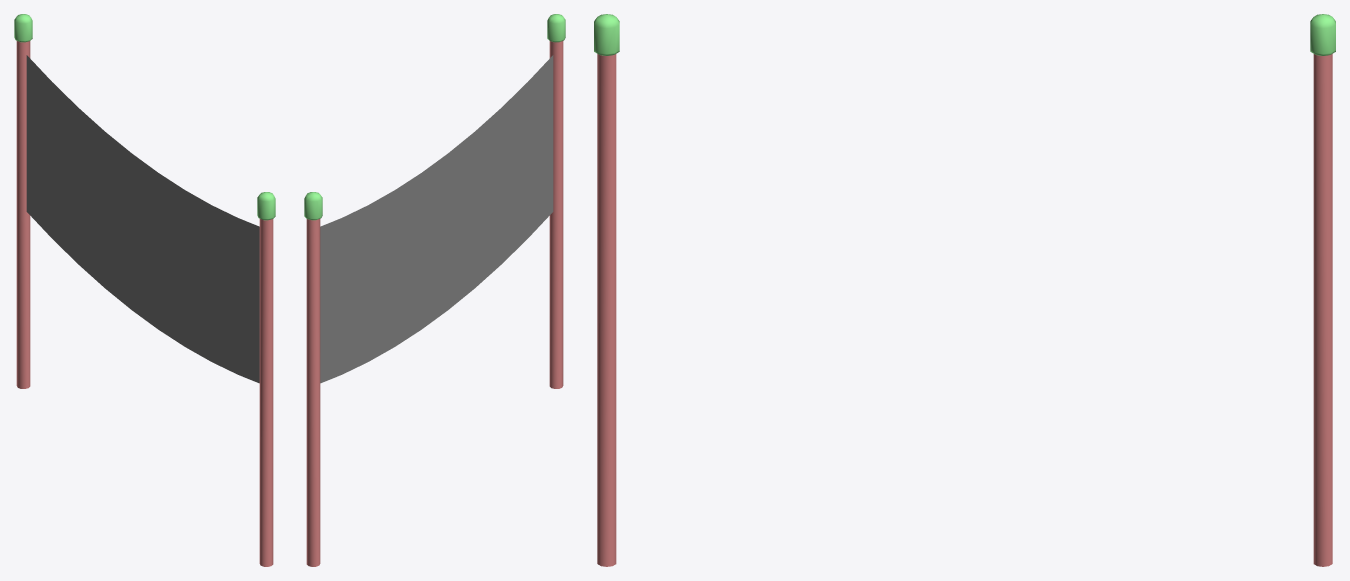
The model's file is CHN_RLBanner01.gltf.
The picture shows the model from 3 angles, left to right: view 1: azimuth 30°, elevation 25°; view 2: azimuth 150°, elevation 25°; view 3: azimuth 270°, elevation 25°; orthographic projection. The views are drawn at different scales.
Parts seen in each view (by area): view 1: CHN_RLBanner01; view 2: CHN_RLBanner01; view 3: CHN_RLBanner01.
Part boxes in pixels (x1,y1,x2,y2): CHN_RLBanner01: (14, 14, 275, 566); CHN_RLBanner01: (304, 14, 565, 566); CHN_RLBanner01: (594, 14, 1335, 566).
Bounding box in the file's own units: 0.9586 × 21.62 × 26.53.
